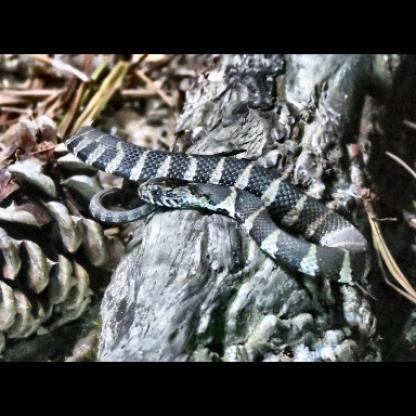Snake: (67, 123, 376, 286)
